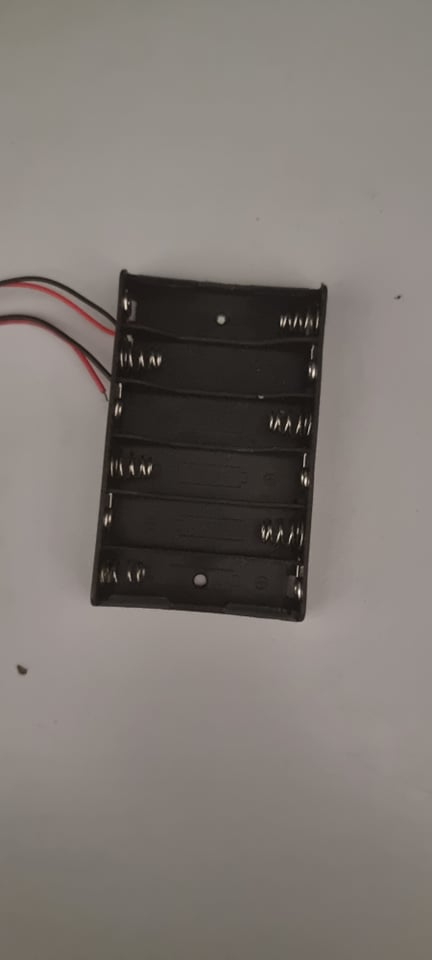BATTERY BOX: (75, 264, 327, 623)
